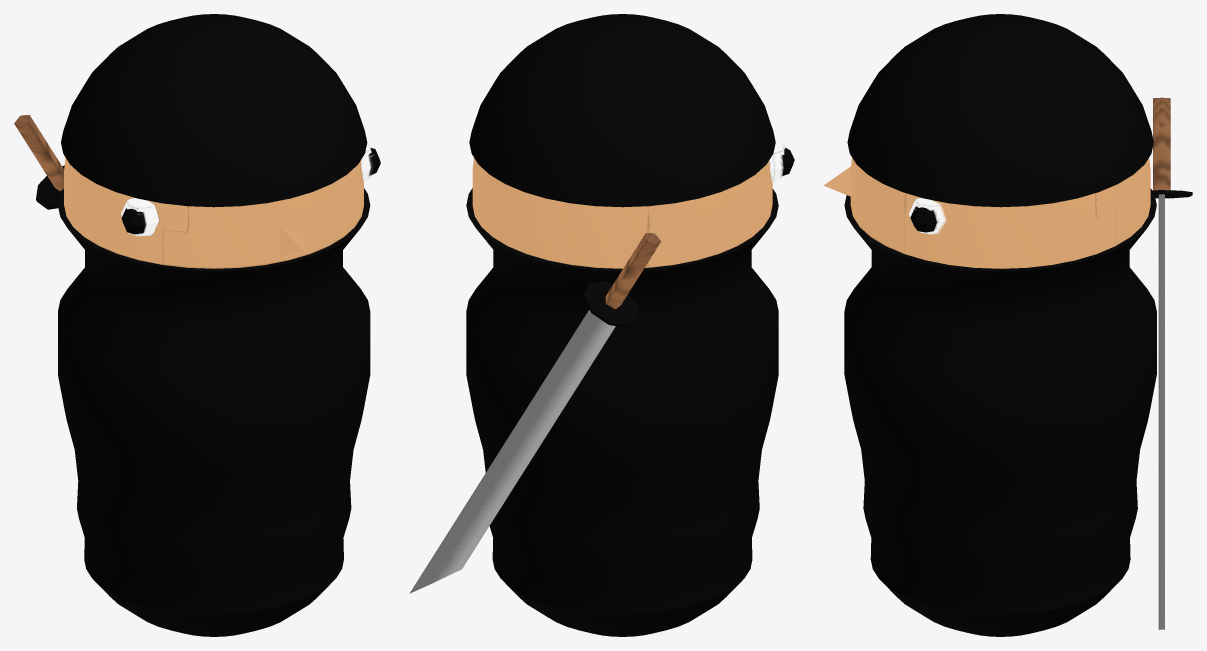
The model's file is MainNinja.fbx.
The picture shows the model from 3 angles, left to right: view 1: azimuth 30°, elevation 25°; view 2: azimuth 150°, elevation 25°; view 3: azimuth 270°, elevation 25°; orthographic projection.
Parts seen in each view (by area): view 1: Ninja; view 2: Ninja; view 3: Ninja.
Boxes of the visible parts, x1,y1,x2,y2 form: Ninja: [14, 14, 380, 636]; Ninja: [409, 14, 794, 636]; Ninja: [824, 14, 1192, 636].
Size of the model in its own units: 100 by 210 by 118.
